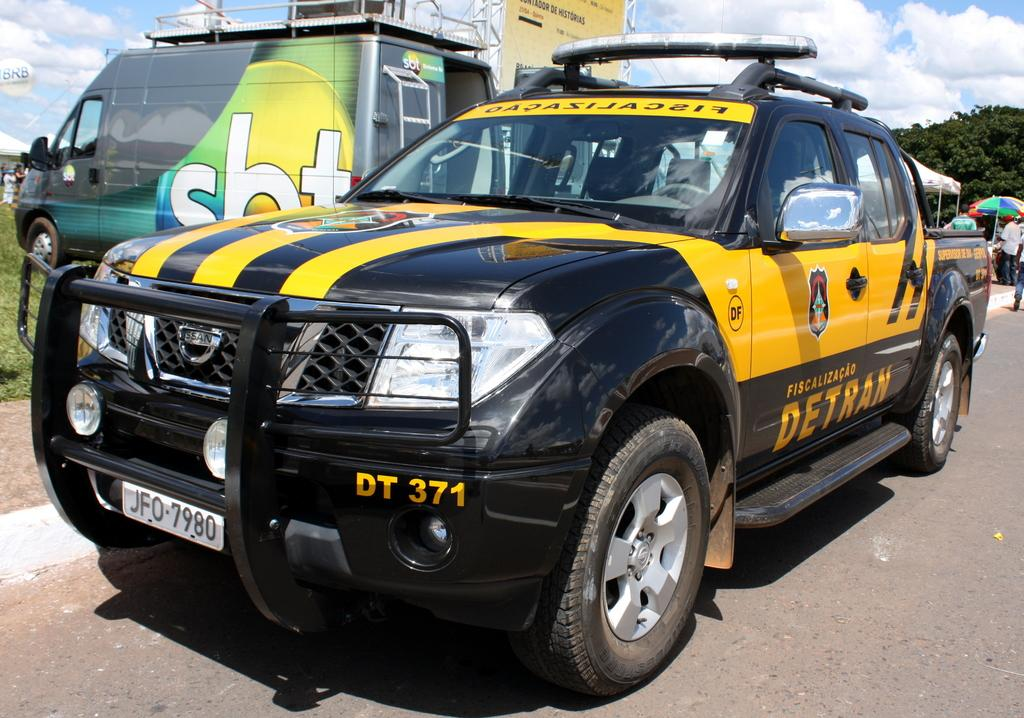Car: (19, 31, 986, 706)
